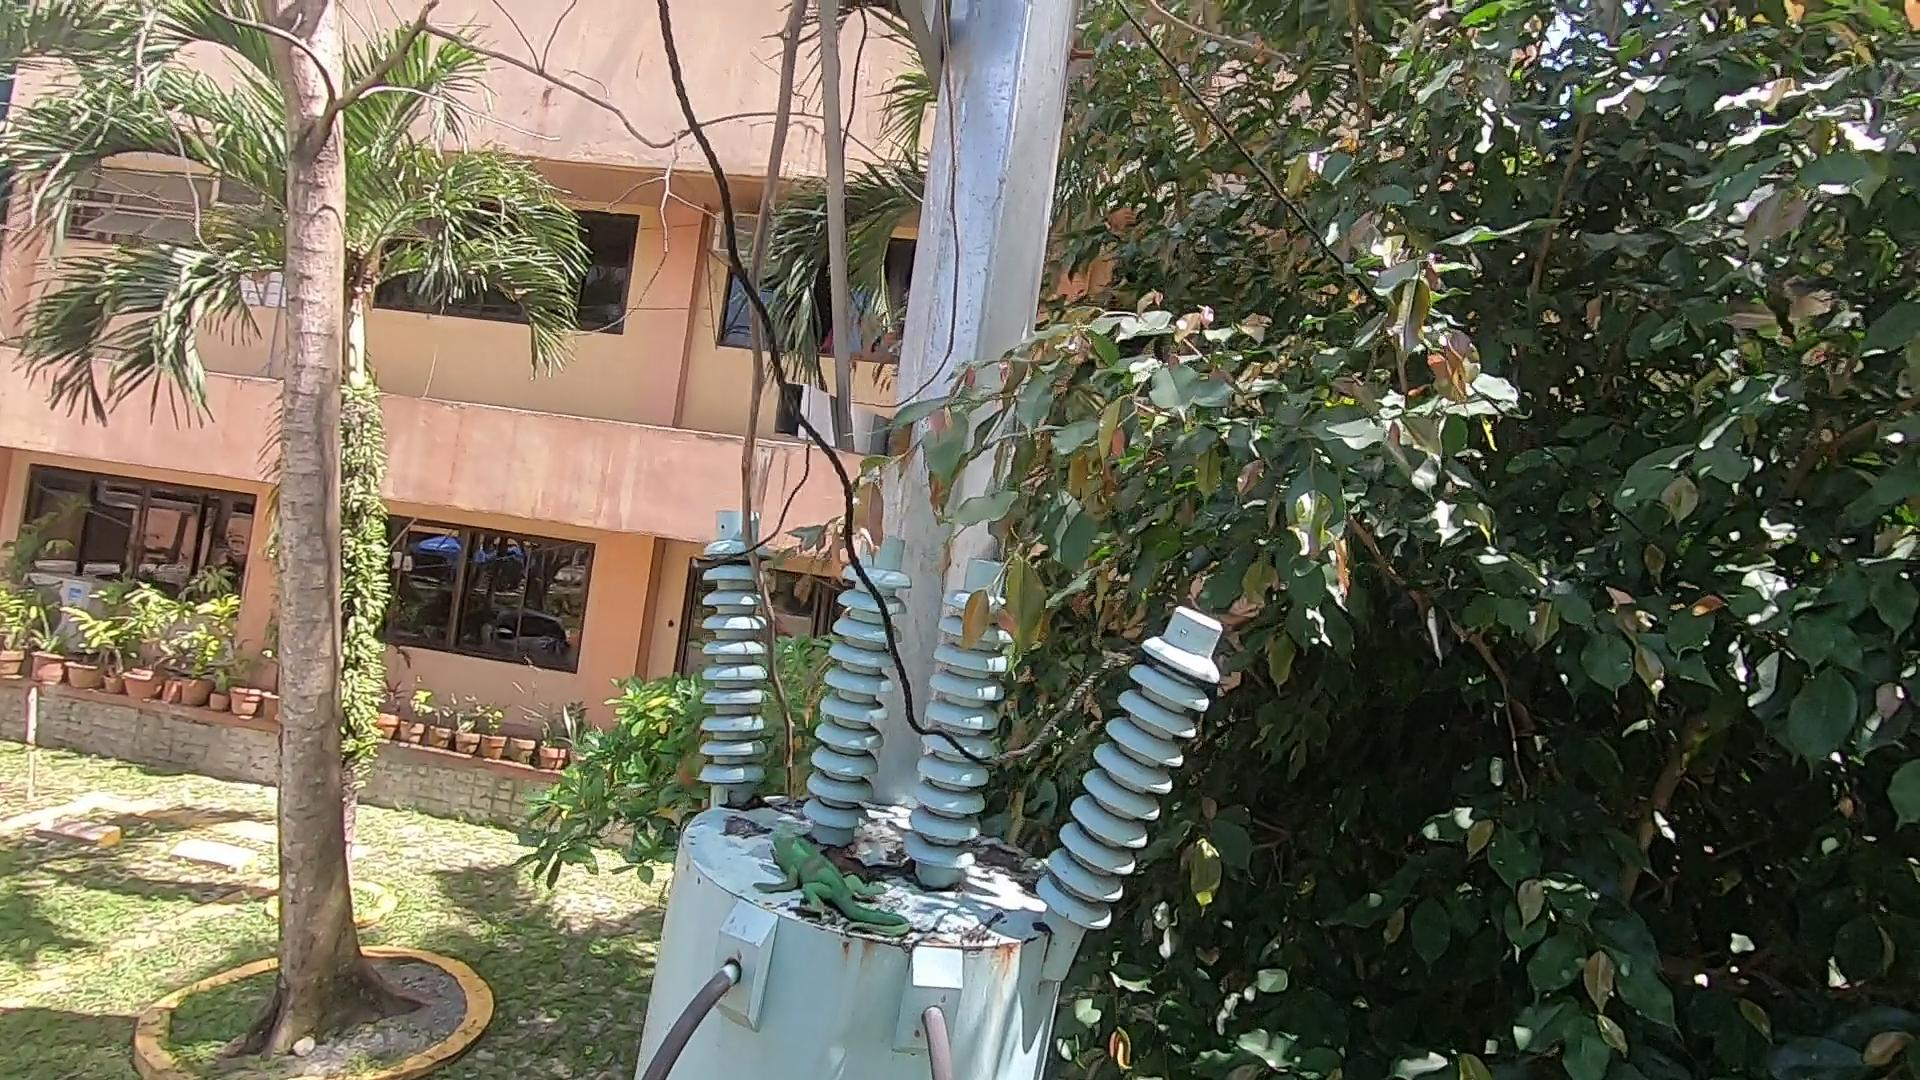branch with leaves: (840, 398, 1120, 657)
leaf: (819, 835, 931, 891), (976, 837, 1042, 884), (705, 796, 777, 823)
tree branch: (735, 15, 840, 800)
